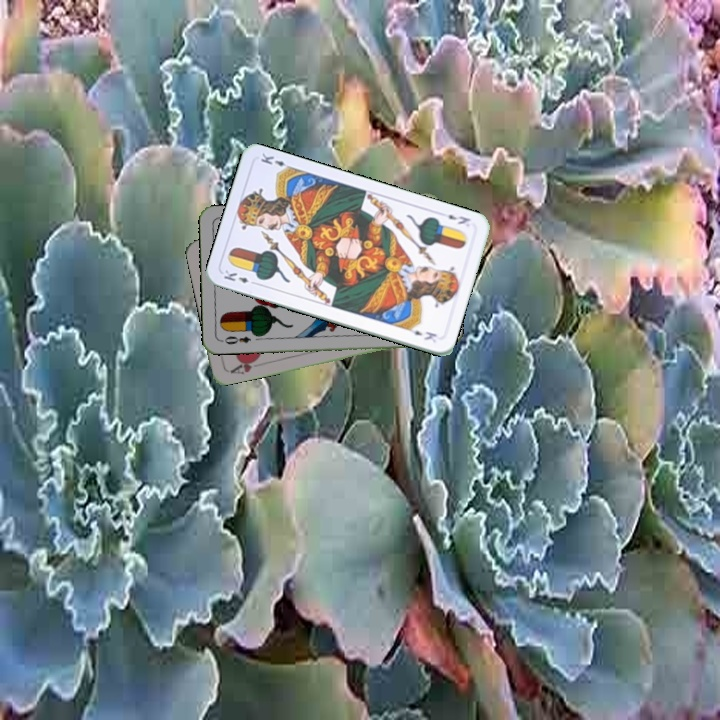EK: (220, 266, 260, 288), (444, 210, 473, 227)
EO: (217, 332, 253, 347)
HA: (226, 353, 265, 377)
